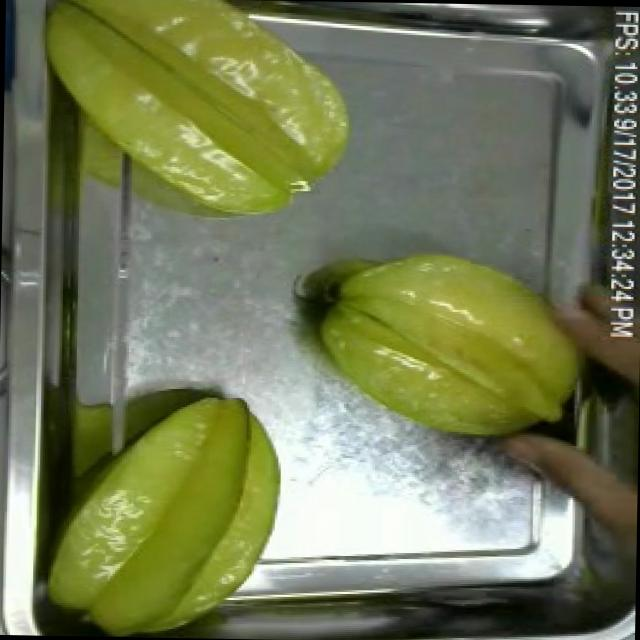fruit: (31, 0, 370, 231), (34, 380, 294, 640), (300, 230, 596, 452)
